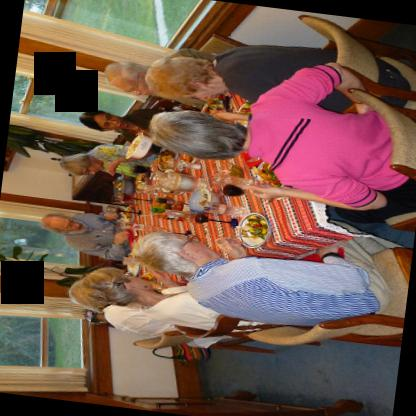handbag: (152, 342, 209, 365)
